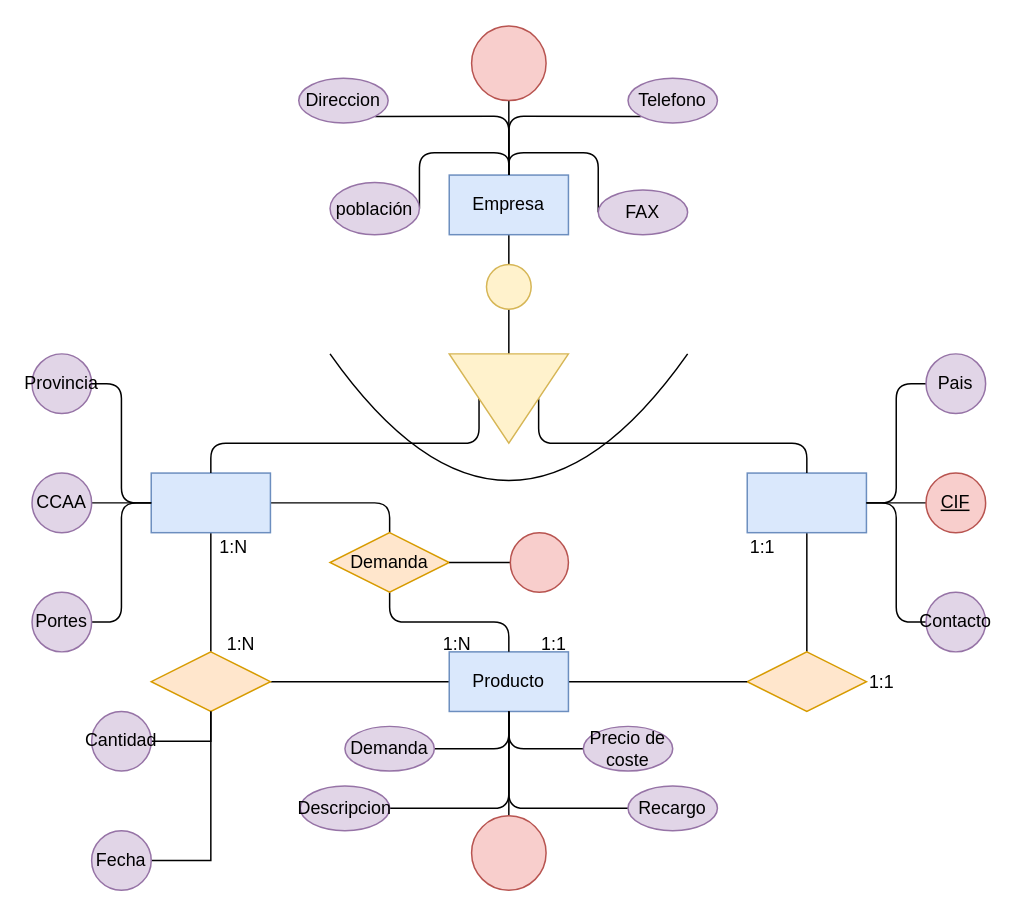
Some shapes in this 1018 by 916 pixel diagram are drawn without their labels. The shapes that lost their labels are listed below. From the top down, each one's centre as x and y in pixels, then its label:
the point at 508,63: NIF
the point at 210,502: Cliente
the point at 806,502: Proveedor
the point at 538,561: recargos
the point at 210,680: Compra
the point at 806,680: Vende
the point at 508,852: Codigo
